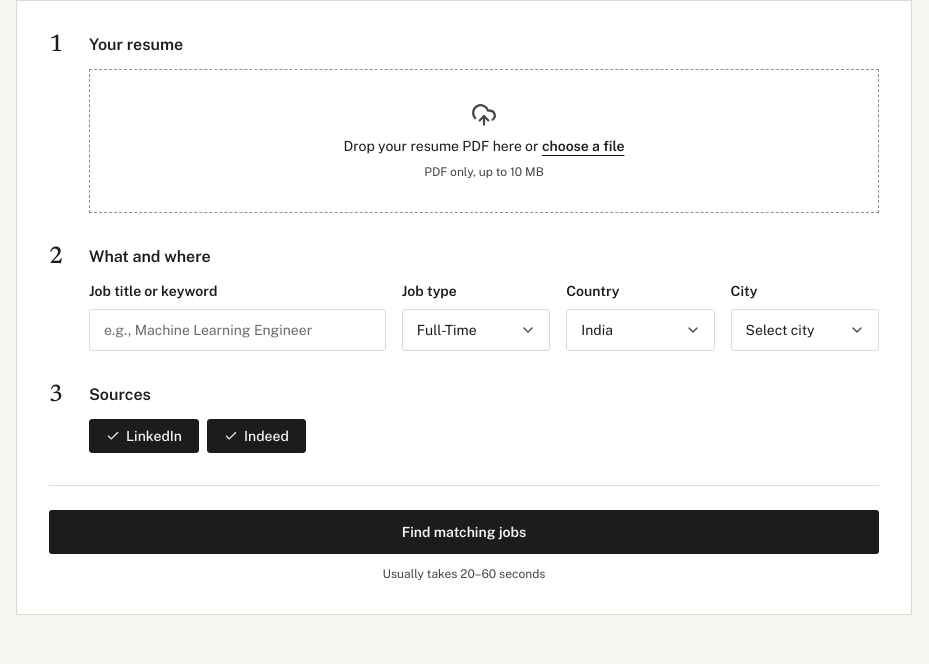
says exactly what's missing instead of submitting
What coordinates should you click on to do the following:
click the button "Find matching jobs"
I would click on:
 (464, 532)
Its box is [49,510,879,554].
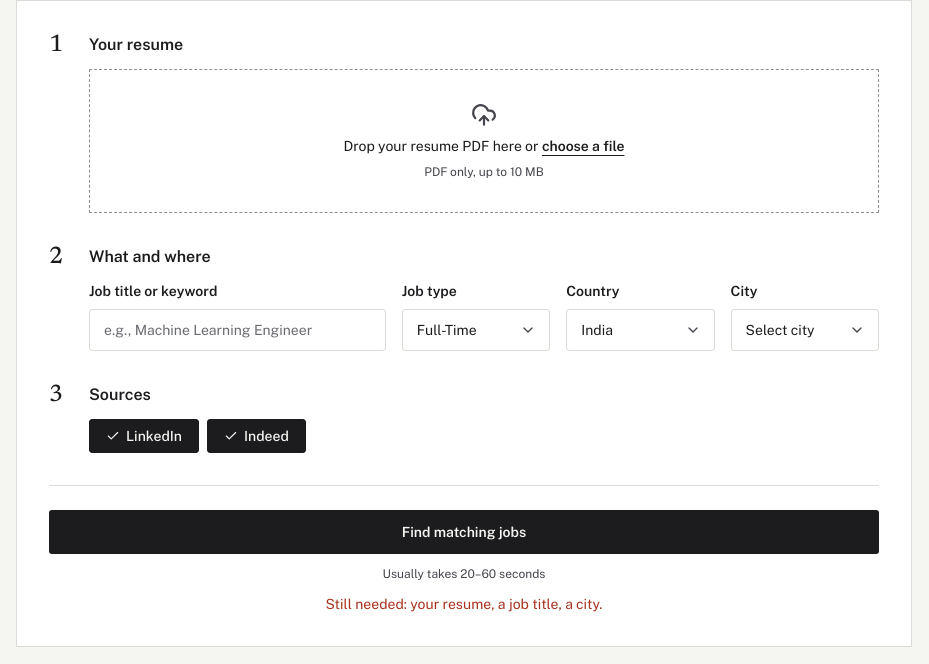
Expected: the text "Still needed: your resume, a job title, a city." is shown, [326,596,602,612]
